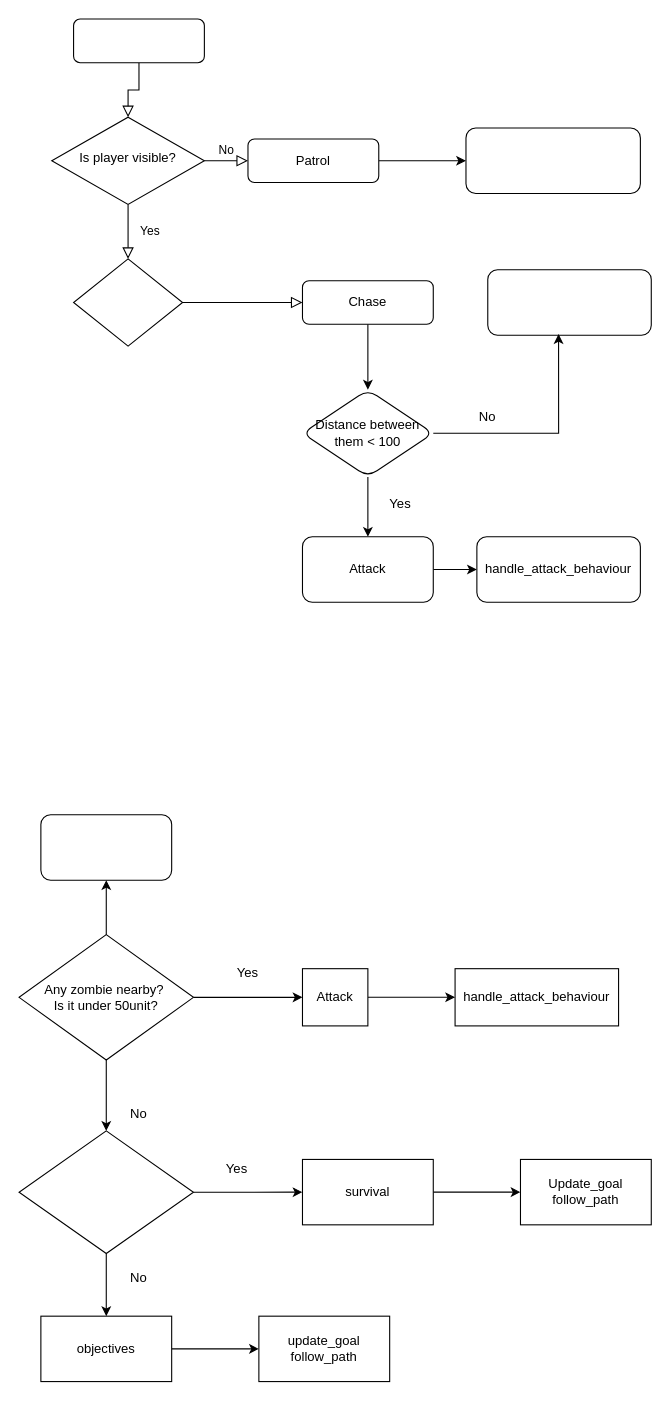
The diagram is 670 pixels wide and 1401 high, and some of its shapes have lost their labels. The shapes that lost their labels are listed below. From the top down, each one's centre as x and y in pixels, then its label:
At point 138,40: "Zombie State".
At point 552,160: "handle_patrol_behaviour".
At point 127,302: "Generate path".
At point 569,302: "handle_chase_behaviour".
At point 106,847: "Player State".
At point 105,1192: "Is health critically low? or low on ammo?".
